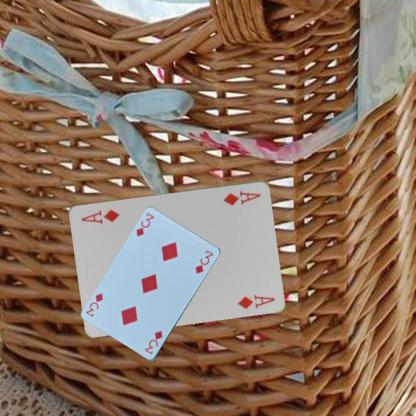3d: (142, 328, 164, 356), (134, 211, 156, 238)
Ad: (221, 188, 262, 207)
